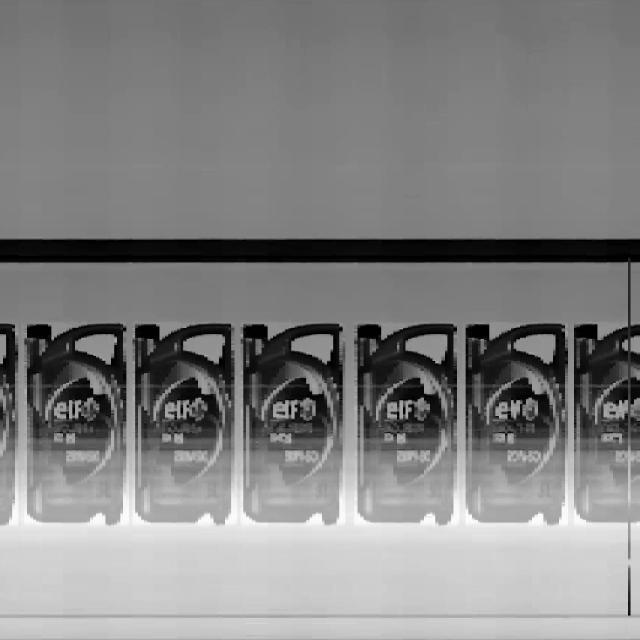motor_oil: (460, 318, 568, 532), (25, 317, 130, 526), (242, 319, 348, 526), (355, 320, 457, 530), (133, 325, 235, 527)
